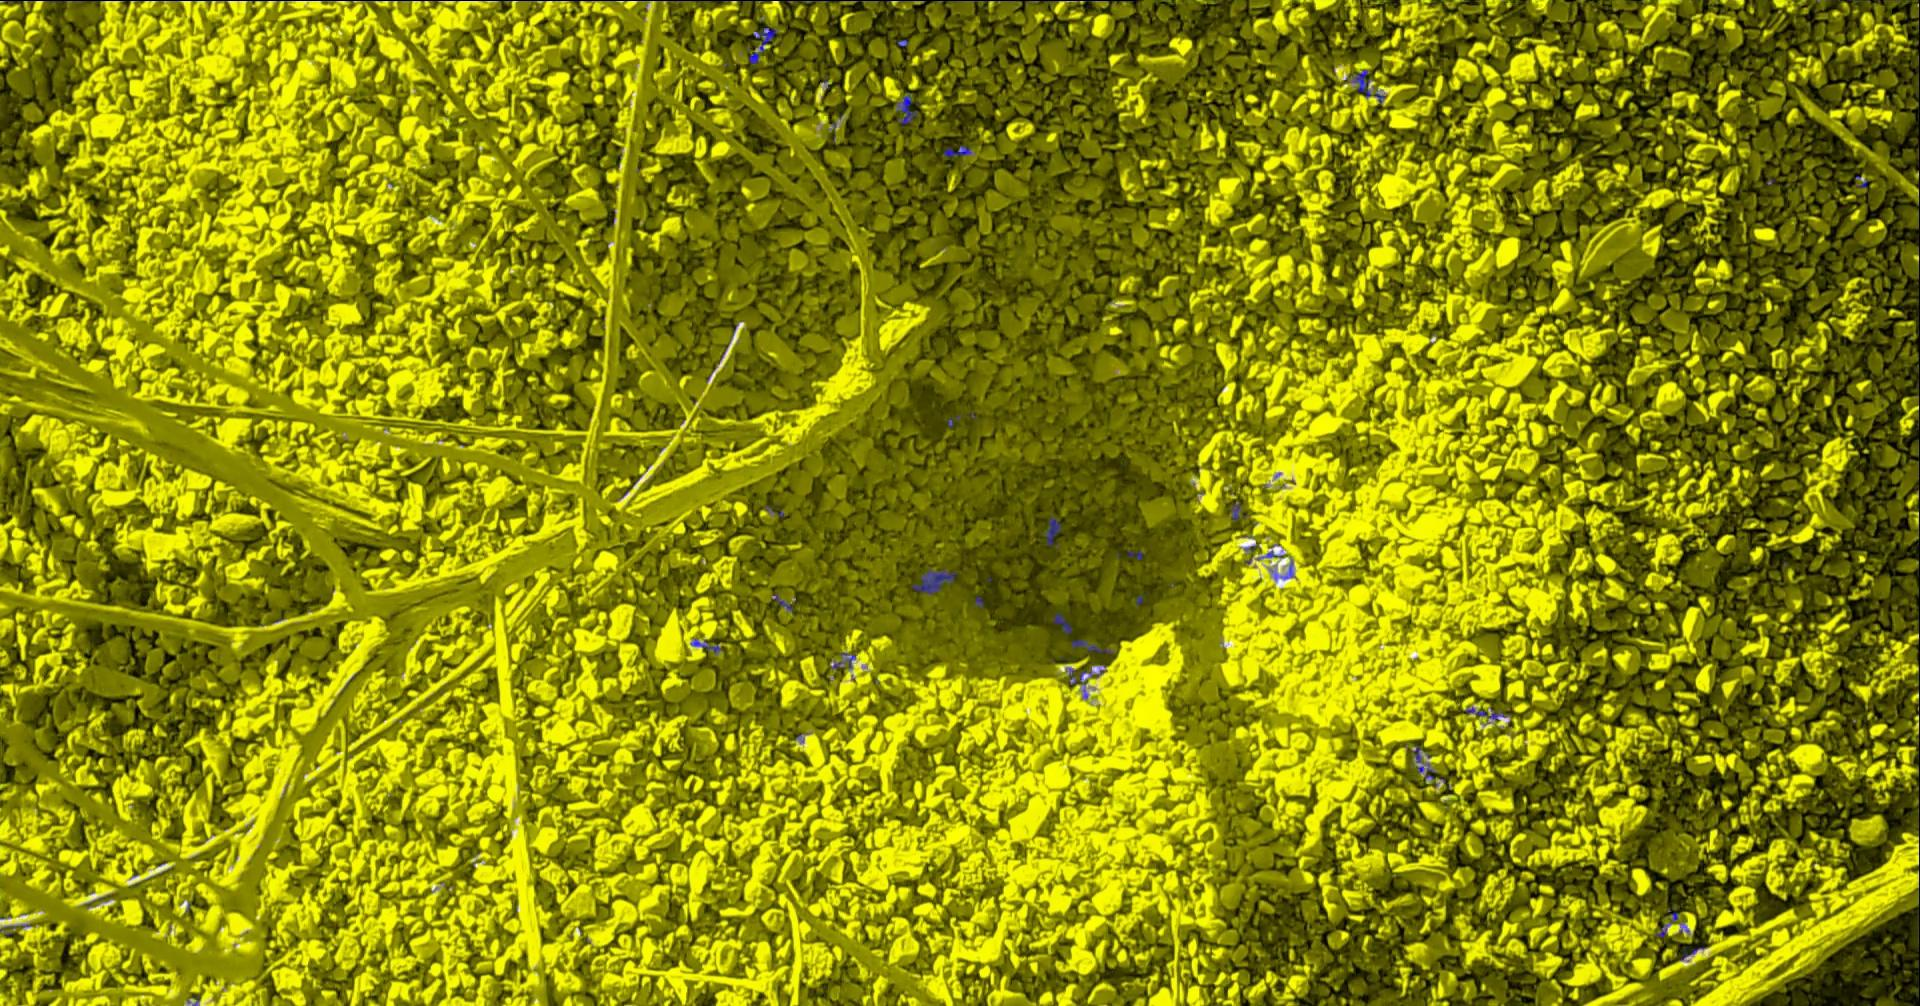ant: (913, 567, 959, 594), (1351, 69, 1387, 103), (748, 27, 778, 64), (1413, 746, 1437, 780), (897, 91, 919, 124), (1069, 669, 1095, 697), (1073, 639, 1114, 653), (1045, 516, 1063, 547), (692, 638, 723, 653), (1055, 612, 1074, 634), (833, 652, 857, 668), (775, 591, 792, 610), (943, 145, 973, 156), (1232, 502, 1248, 520), (1490, 708, 1512, 720), (1669, 907, 1680, 923), (935, 0, 990, 1)
